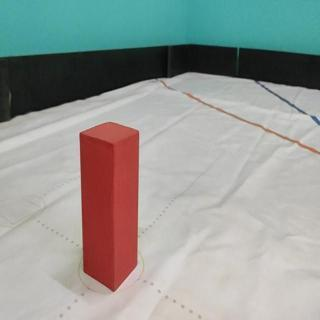redbox: (77, 119, 140, 291)
